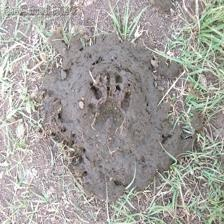raccoon: (83, 73, 135, 137)
